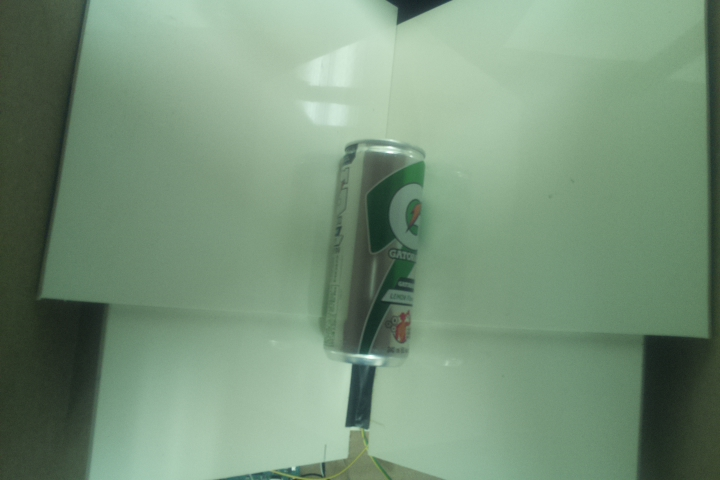can: (318, 139, 429, 368)
